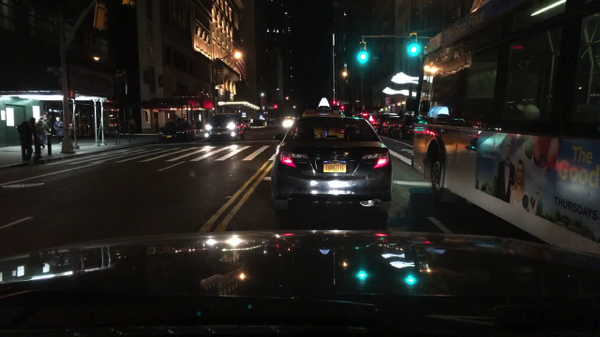bus: (405, 0, 599, 258)
car: (270, 97, 392, 219), (205, 112, 247, 140), (158, 121, 196, 143), (398, 115, 418, 140), (374, 112, 397, 132), (101, 120, 122, 136), (382, 116, 402, 132), (75, 120, 93, 134), (282, 117, 294, 127), (367, 112, 375, 125), (243, 119, 252, 130)
person: (17, 117, 41, 162), (36, 116, 51, 150), (53, 116, 65, 144), (154, 118, 161, 132), (196, 119, 202, 133), (176, 116, 181, 122), (257, 119, 261, 126), (181, 117, 186, 122), (273, 120, 277, 126), (255, 119, 258, 126), (252, 119, 255, 126), (267, 121, 271, 126), (184, 116, 187, 122), (270, 120, 273, 126), (261, 120, 264, 126), (266, 120, 269, 125)
traffic light: (95, 3, 110, 35), (408, 31, 418, 55), (359, 42, 367, 62), (122, 0, 136, 8), (67, 88, 76, 100), (273, 104, 278, 110), (340, 105, 345, 110), (332, 100, 336, 105)
traffic sign: (385, 97, 390, 106), (262, 105, 265, 110), (337, 101, 340, 106)
